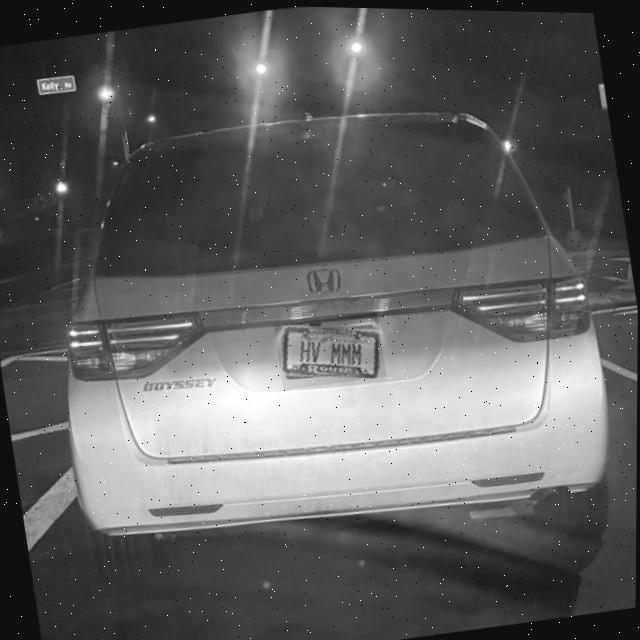LicensePlate: (282, 323, 381, 376)
